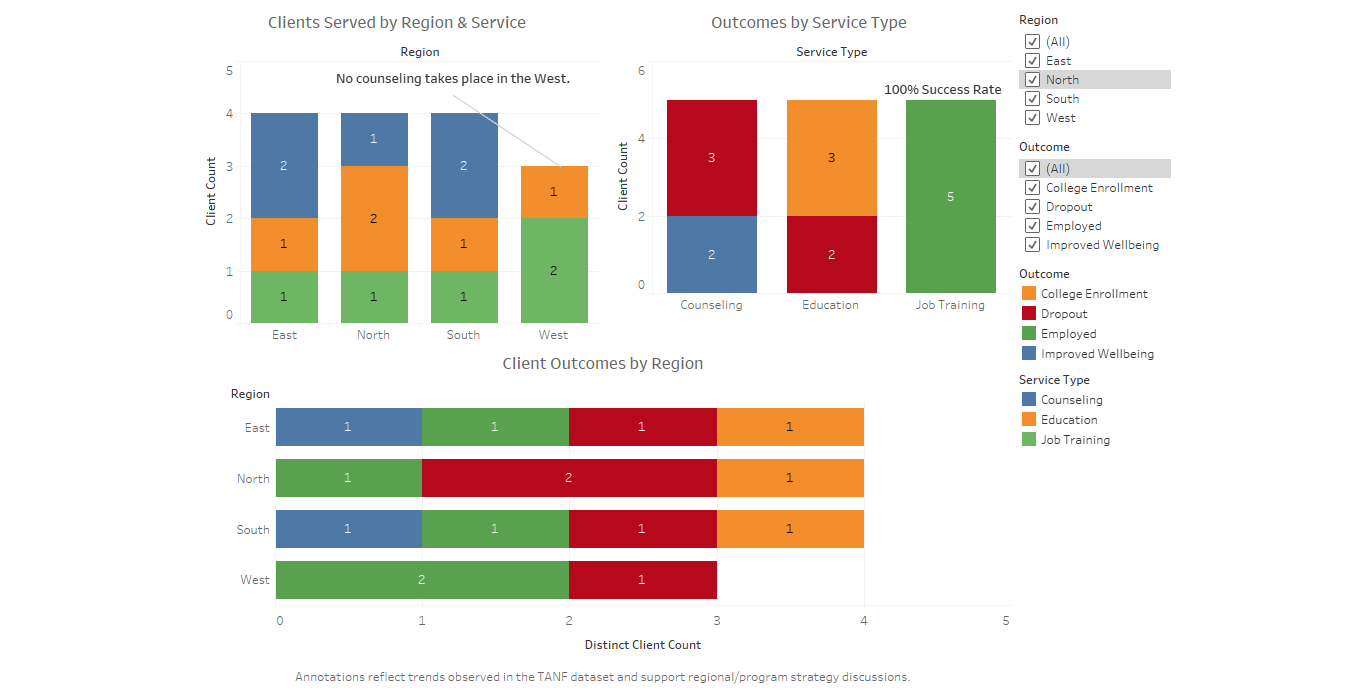

What the dashboard file says about the page in this screenshot:
{"tool":"tableau","page":{"name":"TANF PROGRAM SUMMARY","canvas":[1000,1000],"units":"permille","ordinal":1},"visuals":[{"type":"text","box":[8,14.5,412,54.2]},{"type":"text","box":[420,14.5,412,54.2]},{"type":"filter","title":"Clients Served by Region & Service","param":"[federated.1wc8ifr0oh5xy6154970b1m6d5t5].[none:Region:nk]","box":[832,14.5,160,229.7]},{"type":"worksheet","title":"Clients Served by Region & Service","mark":"Bar","rows":["Calculation_841328725728747520"],"cols":["Region"],"box":[8,68.7,412,432.2]},{"type":"worksheet","title":"Outcomes by Service Type","mark":"Automatic","rows":["Calculation_841328725728747520"],"cols":["Service Type"],"box":[420,68.7,412,432.2]},{"type":"filter","title":"Outcomes by Service Type","param":"[federated.1wc8ifr0oh5xy6154970b1m6d5t5].[none:Outcome:nk]","box":[832,244.1,160,229.7]},{"type":"legend","title":"Outcomes by Service Type","param":"[federated.1wc8ifr0oh5xy6154970b1m6d5t5].[none:Outcome:nk]","box":[832,473.8,160,191.7]},{"type":"text","box":[8,500,824,54.2]},{"type":"worksheet","title":"Client Outcomes by Region","mark":"Bar","rows":["Region"],"cols":["Calculation_841328725741834241"],"box":[8,554.2,824,386.1]},{"type":"legend","title":"Clients Served by Region & Service","param":"[federated.1wc8ifr0oh5xy6154970b1m6d5t5].[none:Service Type:nk]","box":[832,665.5,160,155.5]},{"type":"text","box":[8,940.3,824,45.2]}]}

Visuals, with their boxes on the dashboard's canvas, which has no fixed pixel size, in thousandths of its width and height (x1, y1, x2, y2). These are canvas units, not pixel positions in the 1366x697 screenshot, which may show the page scaled, cropped or inside an application window:
text: (8,14,420,69)
text: (420,14,832,69)
"Clients Served by Region & Service" filter: (832,14,992,244)
"Clients Served by Region & Service" worksheet (Bar marks): (8,69,420,501)
"Outcomes by Service Type" worksheet: (420,69,832,501)
"Outcomes by Service Type" filter: (832,244,992,474)
"Outcomes by Service Type" legend: (832,474,992,666)
text: (8,500,832,554)
"Client Outcomes by Region" worksheet (Bar marks): (8,554,832,940)
"Clients Served by Region & Service" legend: (832,666,992,821)
text: (8,940,832,986)
